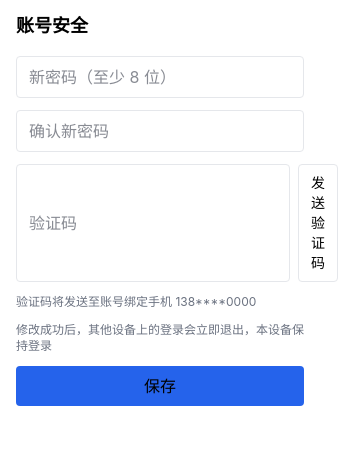
Test case: SettingsPage 改密码 › 缺验证码 → 本地拦下,不发请求
The image size is (355, 453).
Step 1. Type "new-pass-456" into the password field with placeholder "新密码（至少 8 位）" → (160, 77), box [16,56,304,98]
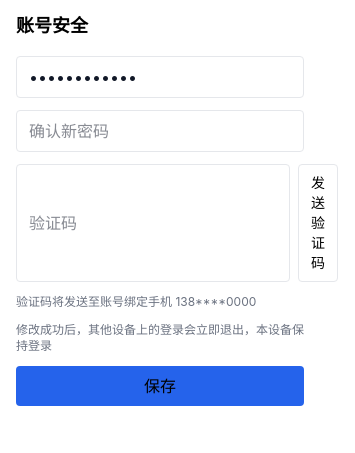
Step 2. Type "new-pass-456" into the password field with placeholder "确认新密码" → (160, 131), box [16,110,304,152]
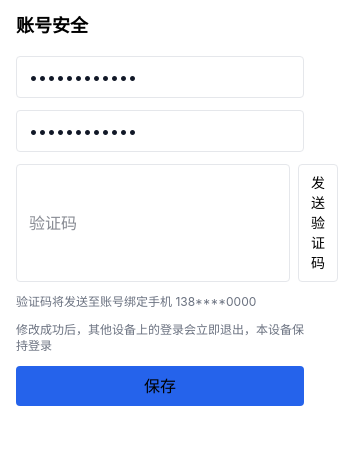
Step 3. Submit the form
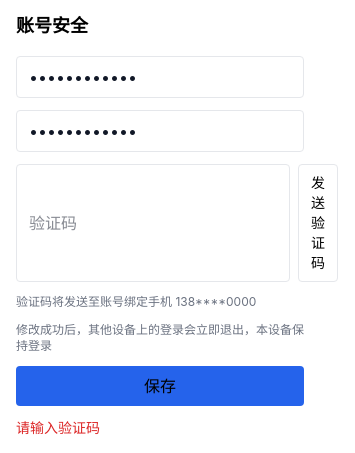
Expected: the text "请输入验证码" is shown, [16,419,100,436]
